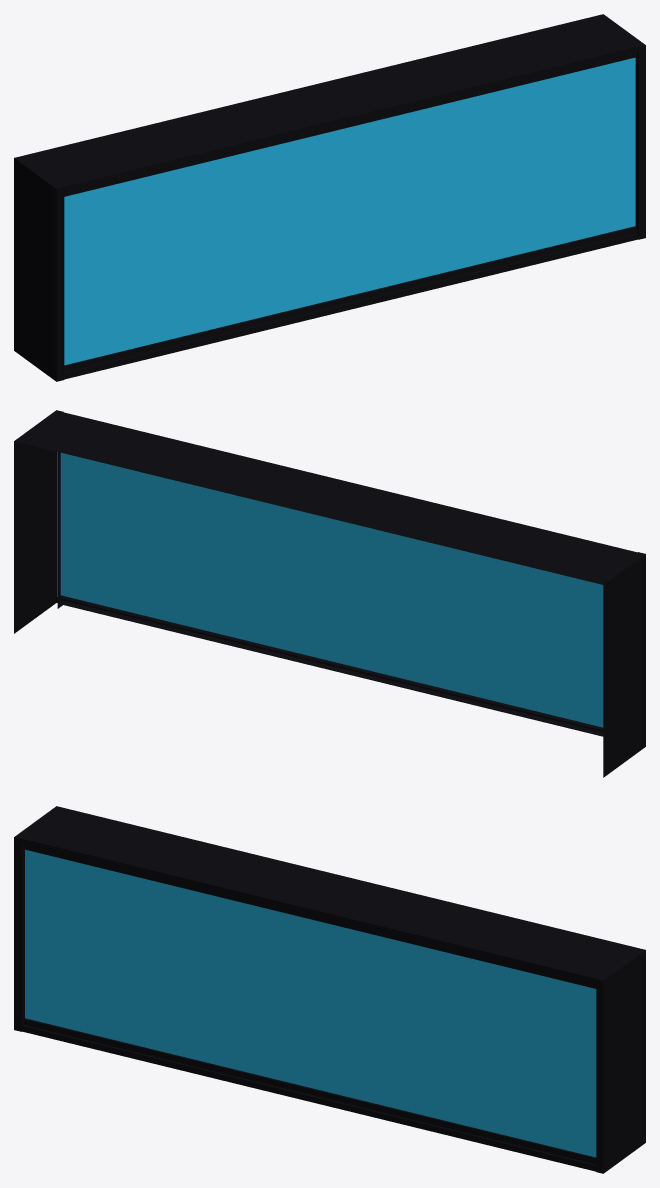
Rendered from Wall_16x5x2_001_L3.fbx.
3 renders of one model, top to bottom at view 1: azimuth 30°, elevation 25°; view 2: azimuth 150°, elevation 25°; view 3: azimuth 330°, elevation 25°, orthographic.
Parts seen in each view (by area): view 1: Wall_16x5x2_001_L3; view 2: Wall_16x5x2_001_L3; view 3: Wall_16x5x2_001_L3.
Part boxes in pixels (<box>): Wall_16x5x2_001_L3: <box>14,14,645,381</box>; Wall_16x5x2_001_L3: <box>14,410,645,777</box>; Wall_16x5x2_001_L3: <box>14,806,645,1173</box>.
Bounding box in the file's own units: 16 × 5 × 2.
